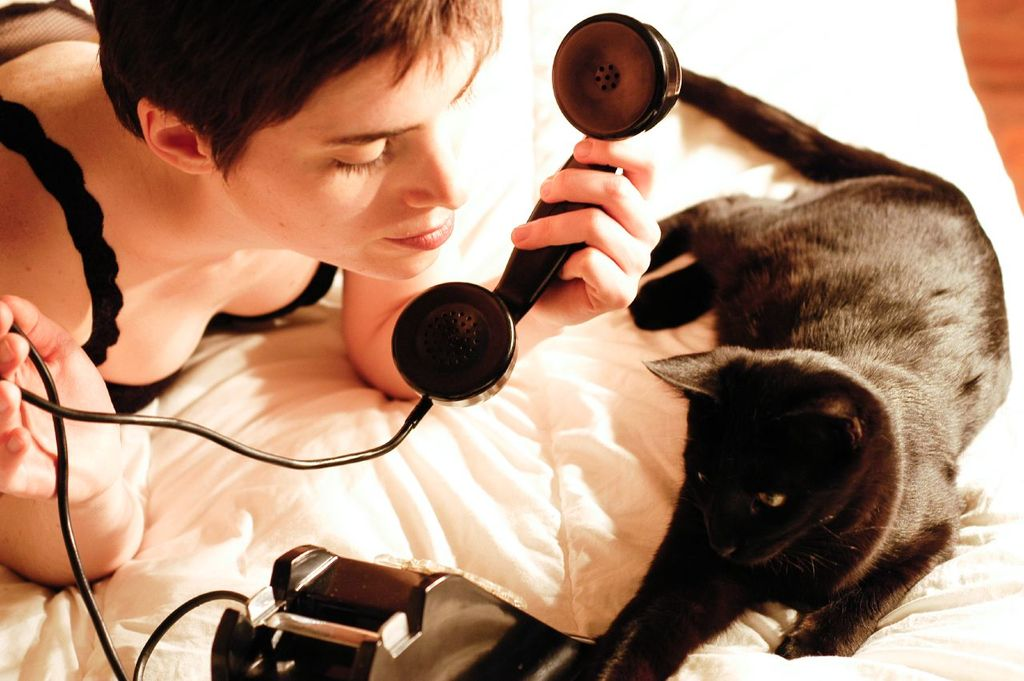Human_hand: (509, 137, 663, 330), (0, 295, 118, 503)
